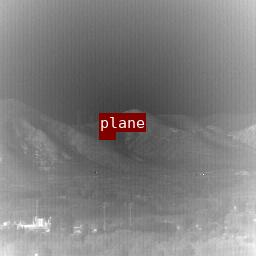plane: (99, 132, 115, 139)
